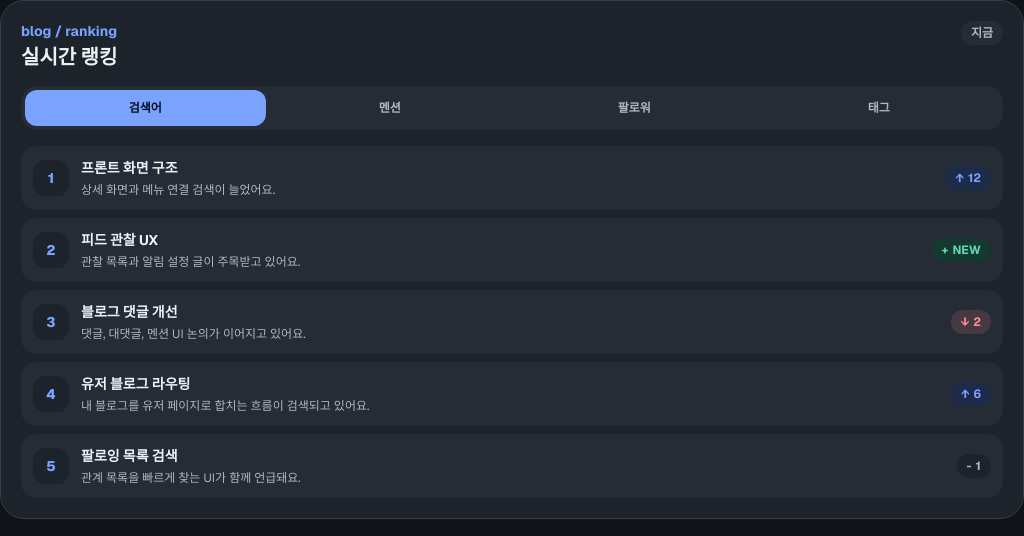
Test: BlogPopularInsightSection › 멘션 탭을 누르면 해당 랭킹 1위(@mory.dev)를 보여준다
// 해당 탭을 클릭한다
Click the tab "멘션".
click(390, 108)  # box [270,90,510,126]
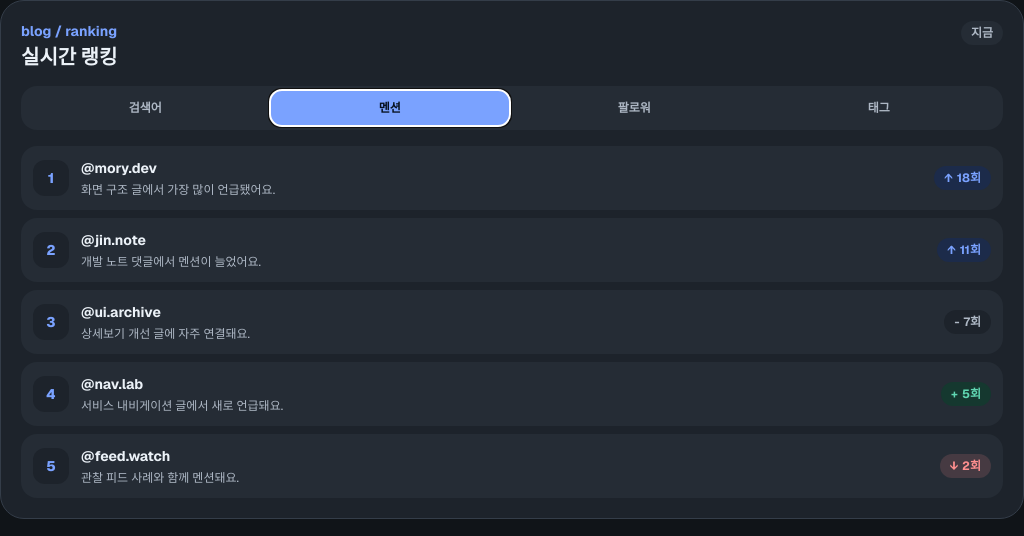
Expected: the text "@mory.dev" is shown, [81,159,157,177]
